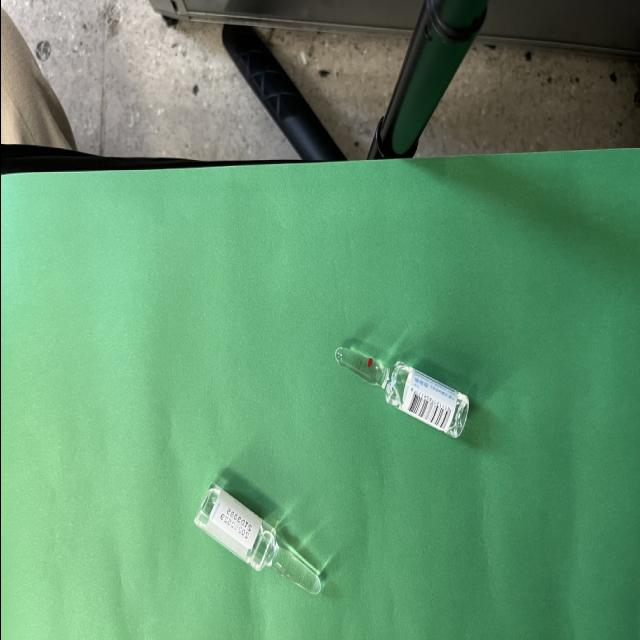Ampoules: (194, 483, 322, 596), (334, 347, 469, 439)
